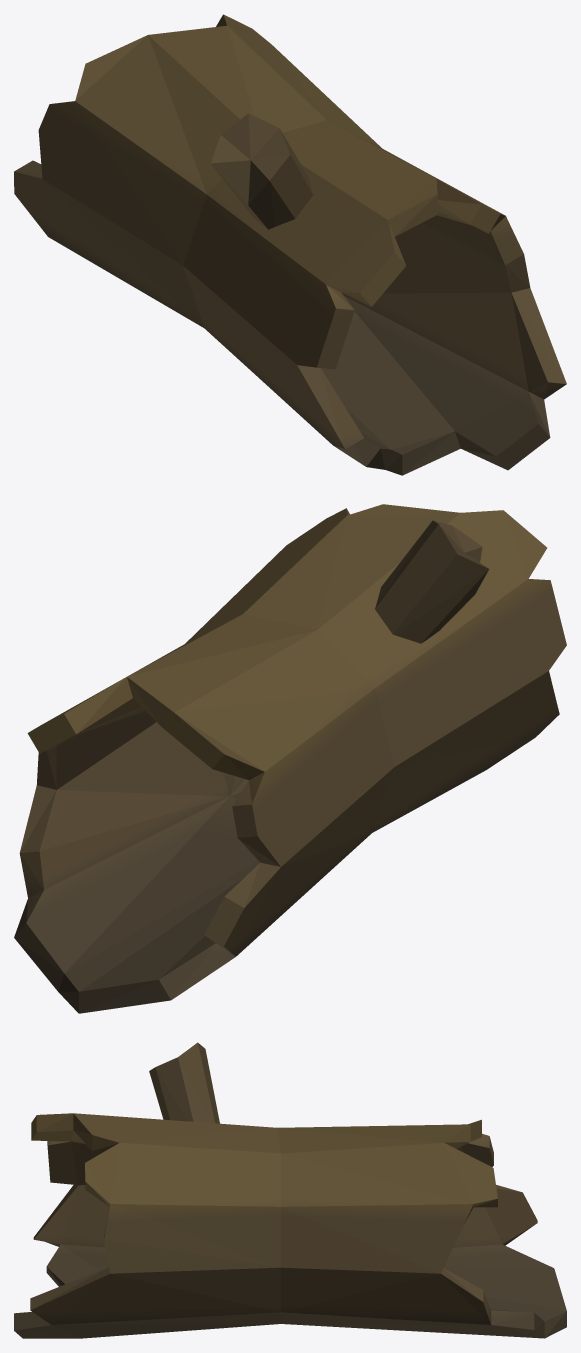
File: um_treeold002.FBX
3 views of the same model, one above another, from view 1: azimuth 30°, elevation 25°; view 2: azimuth 150°, elevation 25°; view 3: azimuth 270°, elevation 25° (orthographic). The views are drawn at different scales.
Parts seen in each view (by area): view 1: um_treeold002; view 2: um_treeold002; view 3: um_treeold002.
Part boxes in pixels (x1,y1,x2,y2): um_treeold002: (14, 14, 566, 475); um_treeold002: (14, 504, 566, 1013); um_treeold002: (14, 1042, 566, 1338).
Bounding box in the file's own units: 0.6364 × 0.7176 × 1.46.
